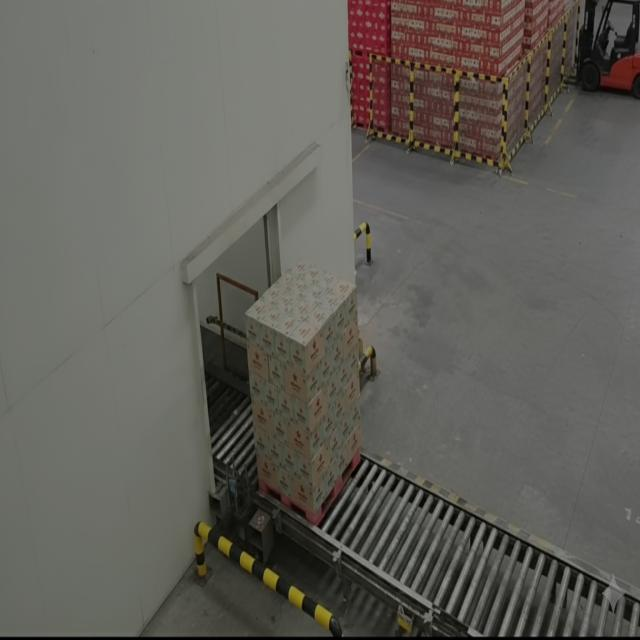pallet: (245, 265, 374, 540)
